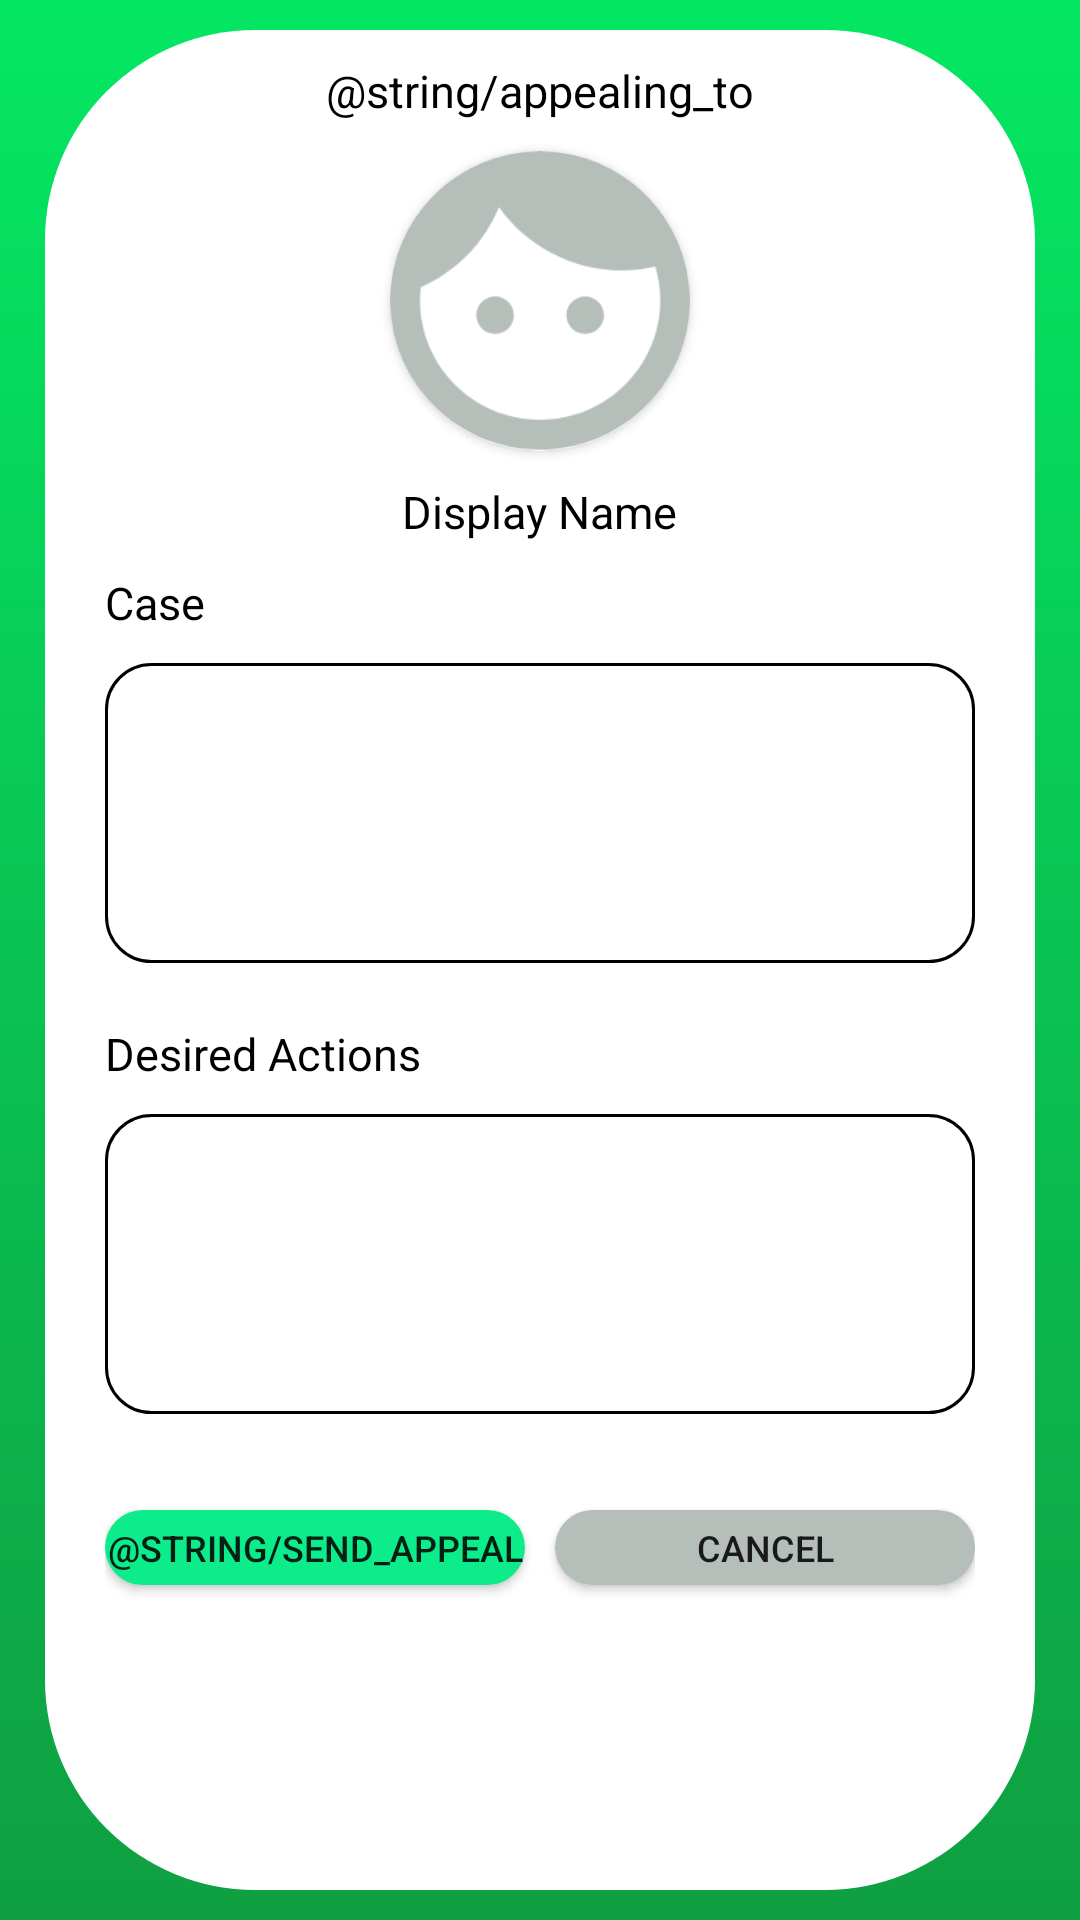

Icon click points for this 1080 × 1920 phone screenshot, format (x,y):
User profile picture: (540,301)
